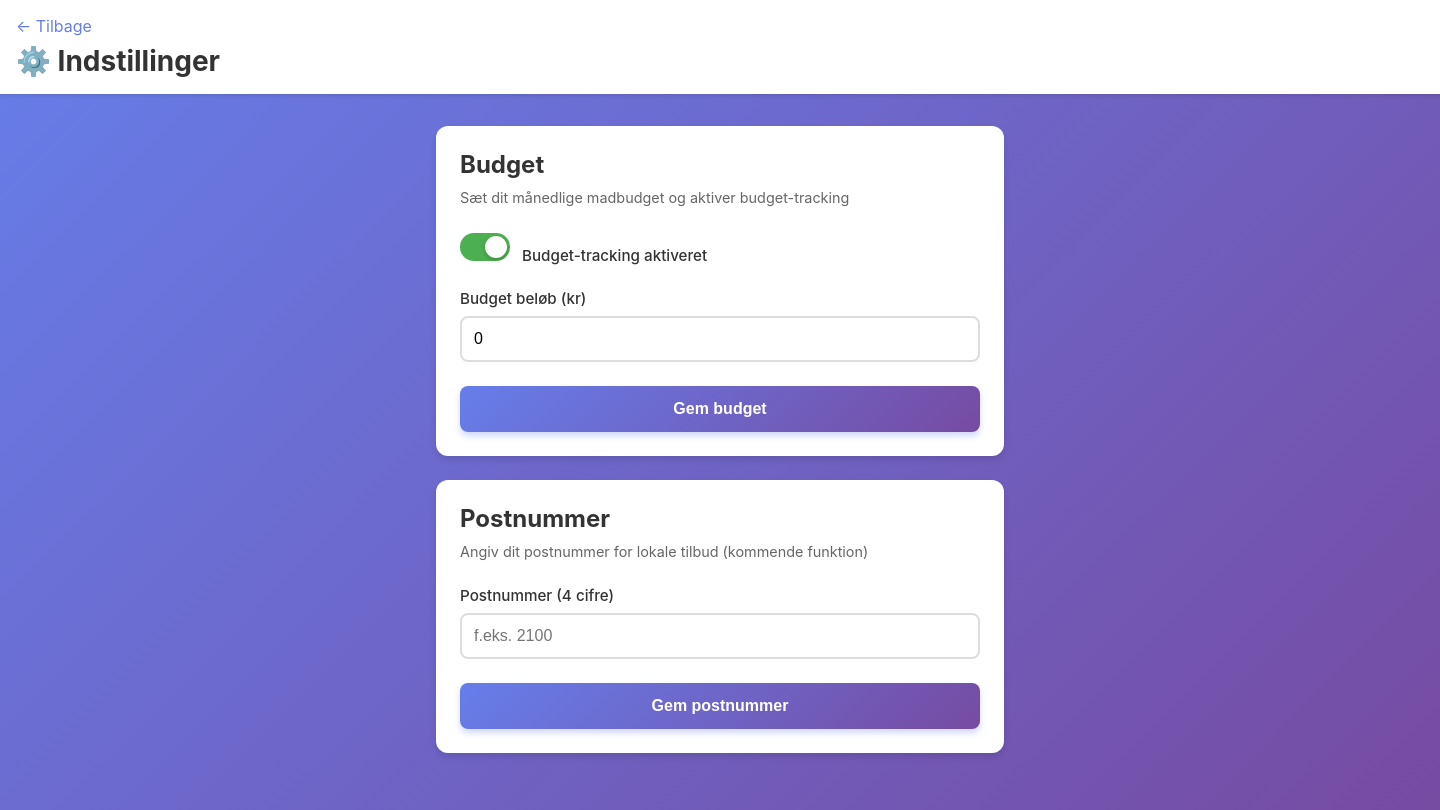
Test case: Indstillinger Page › Budget Settings › disables budget input when budget is disabled
The image size is (1440, 810).
Expected: the number field labelled "Budget beløb (kr)" is enabled, left=460, top=316, right=980, bottom=362
Click the checkbox labelled "Budget-tracking aktiveret". click: [584, 249]
box: left=460, top=233, right=707, bottom=265
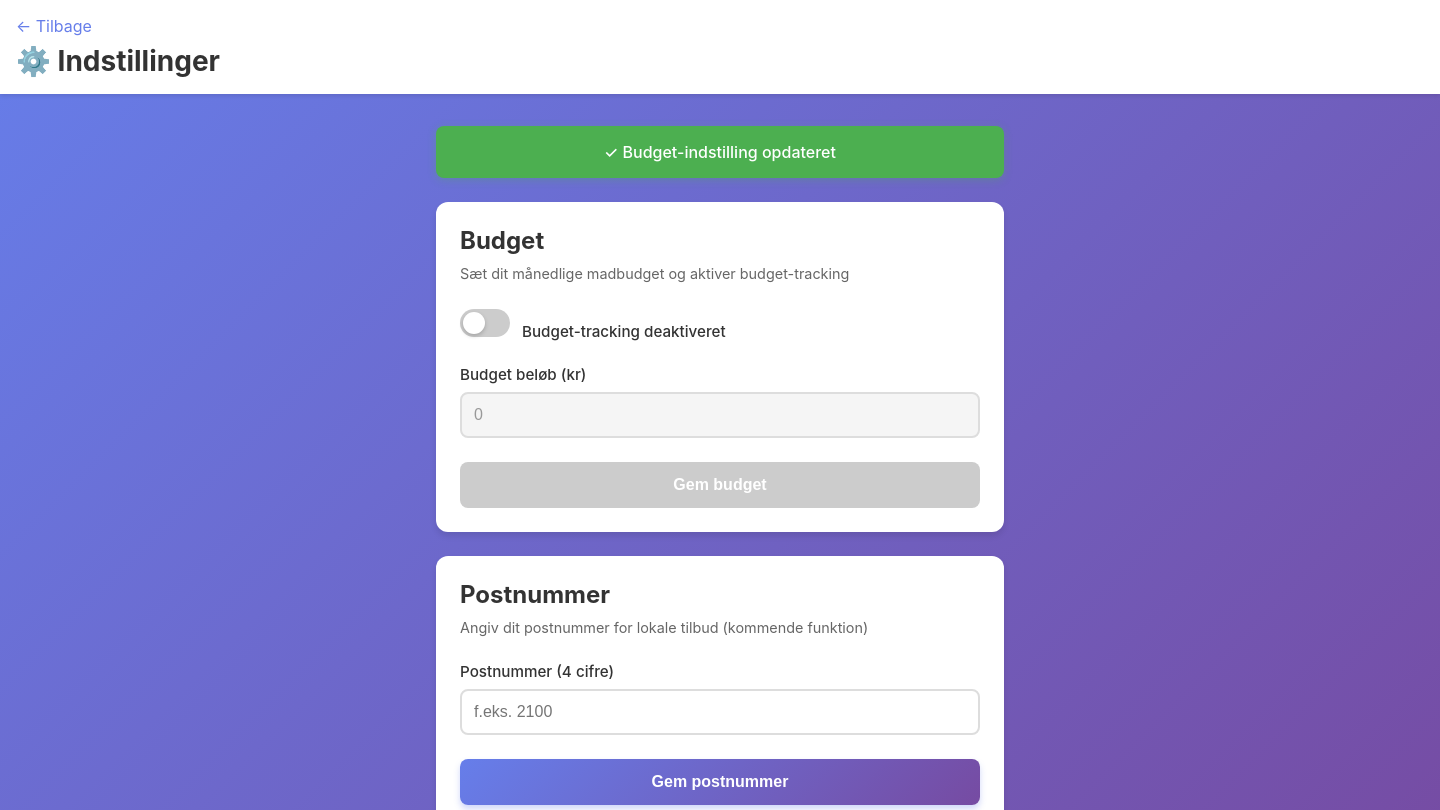
Expected: the number field labelled "Budget beløb (kr)" is disabled, left=460, top=392, right=980, bottom=438
